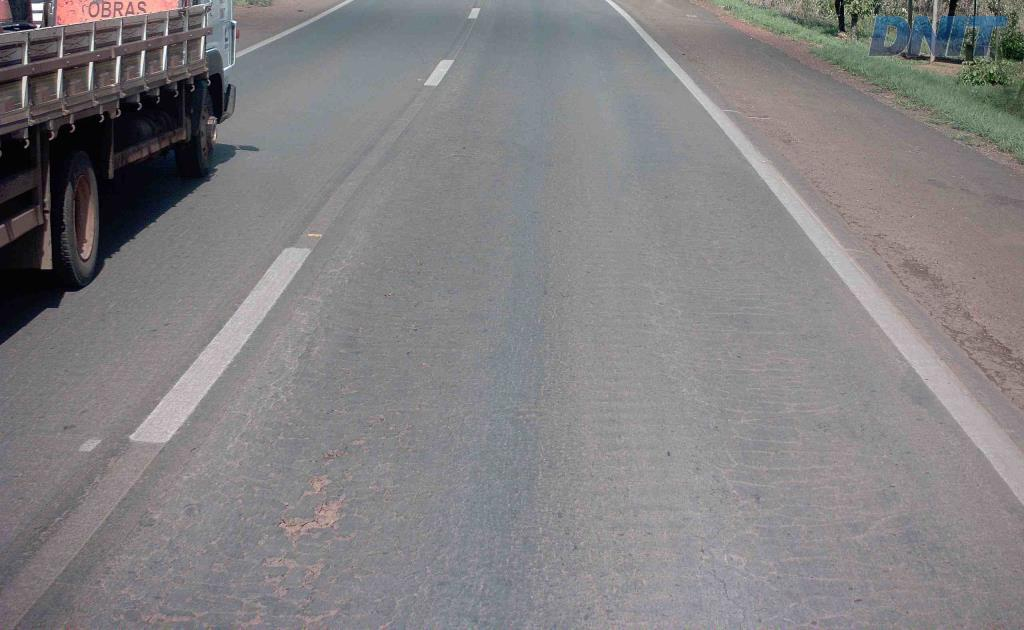pothole: (271, 485, 363, 546)
